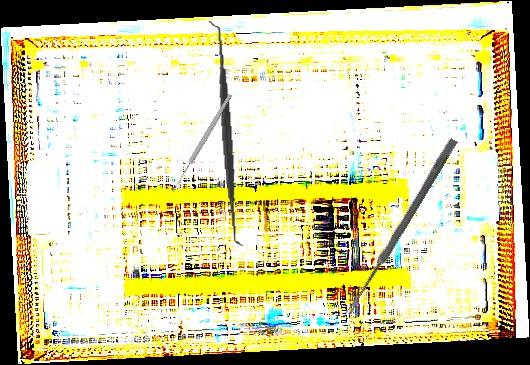Spatula Surgical: (206, 19, 247, 248)
Surgical Spoon: (344, 136, 458, 318), (169, 93, 234, 193)
